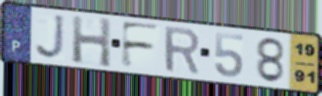5: (214, 31, 245, 79)
8: (254, 36, 286, 84)
F: (119, 20, 163, 70)
H: (70, 14, 113, 70)
J: (34, 13, 67, 61)
R: (162, 25, 202, 76)
